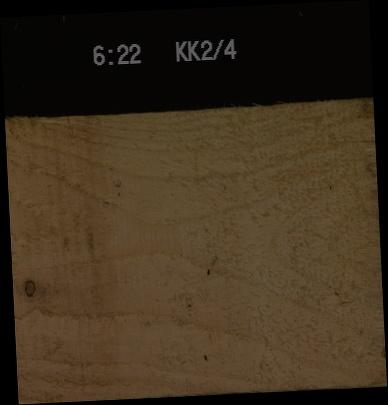dry_knot: (21, 277, 36, 297)
